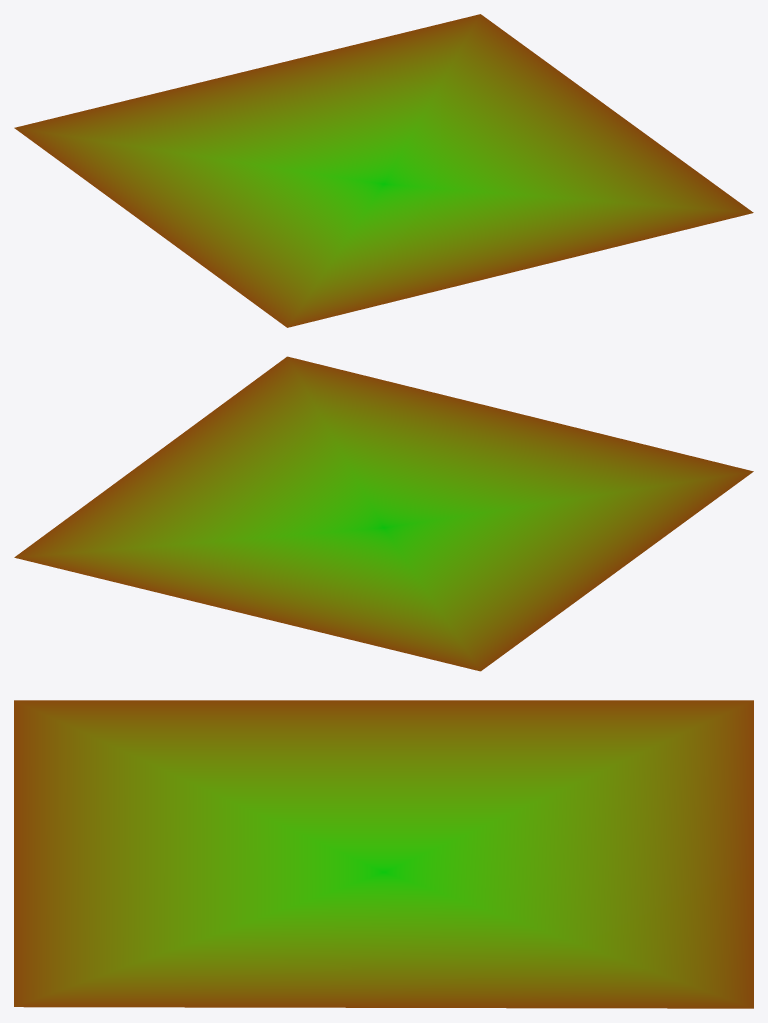
The model's file is Water Cabbage_LOD3_Var6_sjdlV.fbx.
The picture shows the model from 3 angles, top to bottom: view 1: azimuth 30°, elevation 25°; view 2: azimuth 150°, elevation 25°; view 3: azimuth 270°, elevation 25°; orthographic projection. The views are drawn at different scales.
Parts seen in each view (by area): view 1: _7b41_Var6_LOD3; view 2: _7b41_Var6_LOD3; view 3: _7b41_Var6_LOD3.
Part boxes in pixels (left/top/right/bottom): _7b41_Var6_LOD3: left=14, top=14, right=753, bottom=327; _7b41_Var6_LOD3: left=14, top=356, right=753, bottom=671; _7b41_Var6_LOD3: left=14, top=700, right=753, bottom=1008.
Size of the model in its own units: 18.06 by 0.5314 by 18.31.
